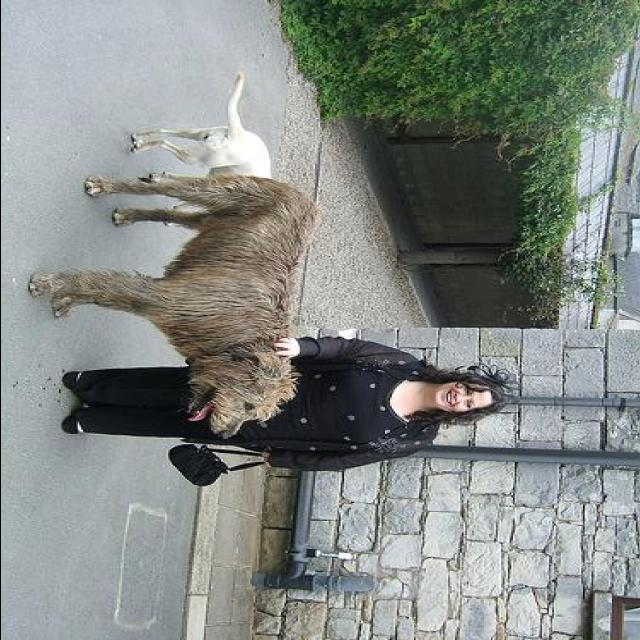irish_wolfhound: (27, 176, 316, 440)
